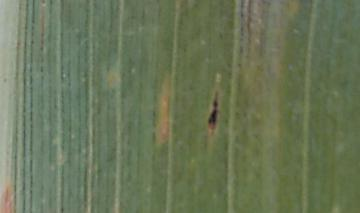tarspot: (208, 100, 218, 125)
